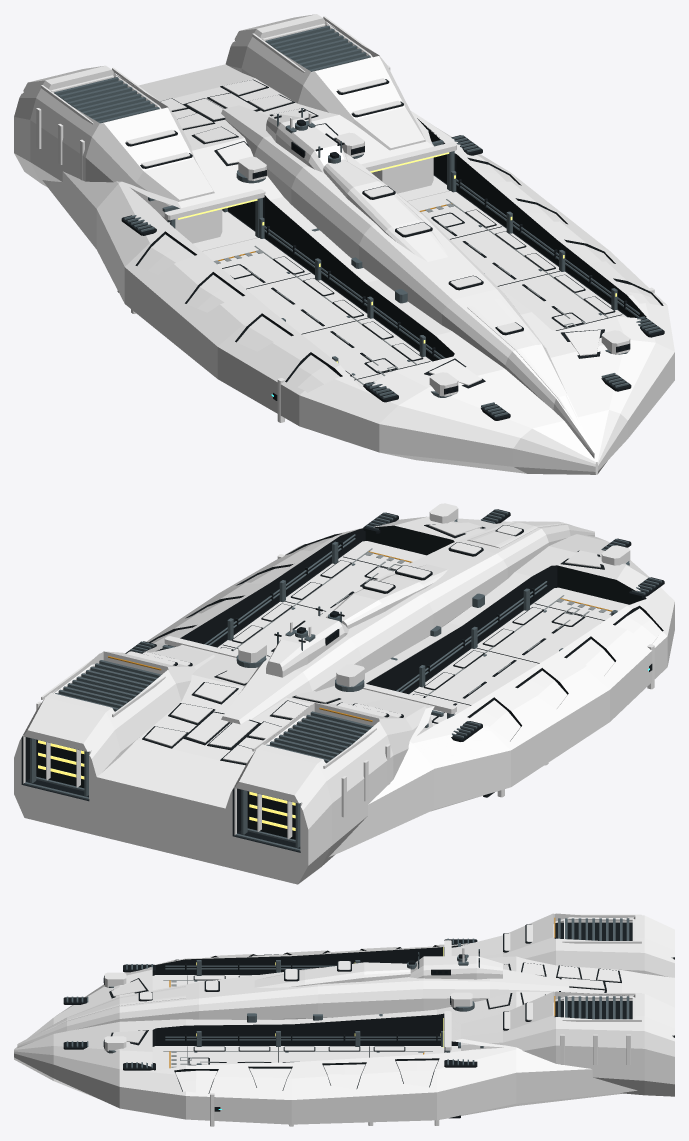
The model's file is carrier-v27.glb.
3 views of the same model, one above another, from view 1: azimuth 30°, elevation 25°; view 2: azimuth 150°, elevation 25°; view 3: azimuth 270°, elevation 25° (orthographic). The views are drawn at different scales.
Parts seen in each view (by area): view 1: CarrierContinuousHull, MassiveAftEnginePod, LongArmoredCentralCitadel, RecessedFlightDeck, CitadelSensorTerrace, ForwardChineInlay, UncrewedSensorCrown, HangarArmoredLintel, HangarFloor, OuterRecessedServiceArmor.003, OuterRecessedServiceArmor.002, OuterRecessedServiceArmor (+6 smaller); view 2: CarrierContinuousHull, MassiveAftEnginePod, LongArmoredCentralCitadel, RecessedFlightDeck, CitadelSensorTerrace, EngineExhaustBack, UncrewedSensorCrown, BoardingRoofServicePanel, OuterRecessedServiceArmor.003, HangarArmoredLintel, OuterRecessedServiceArmor.002, OuterRecessedServiceArmor.001 (+20 smaller); view 3: CarrierContinuousHull, MassiveAftEnginePod, LongArmoredCentralCitadel, RecessedFlightDeck, CitadelSensorTerrace, EngineTopVentBed, UncrewedSensorCrown, ForwardChineInlay, OuterRecessedServiceArmor.003, OuterRecessedServiceArmor.002, OuterRecessedServiceArmor.001, OuterRecessedServiceArmor (+11 smaller).
Boxes of the visible parts, x1=… form: CarrierContinuousHull: x1=42, y1=64, x2=674, y2=474; MassiveAftEnginePod: x1=14, y1=14, x2=433, y2=243; LongArmoredCentralCitadel: x1=221, y1=105, x2=594, y2=458; RecessedFlightDeck: x1=202, y1=191, x2=626, y2=386; CitadelSensorTerrace: x1=323, y1=159, x2=447, y2=261; ForwardChineInlay: x1=467, y1=299, x2=580, y2=427; UncrewedSensorCrown: x1=266, y1=114, x2=347, y2=172; HangarArmoredLintel: x1=164, y1=142, x2=456, y2=220; HangarFloor: x1=193, y1=176, x2=449, y2=251; OuterRecessedServiceArmor.003: x1=137, y1=160, x2=517, y2=274; OuterRecessedServiceArmor.002: x1=187, y1=201, x2=565, y2=312; OuterRecessedServiceArmor: x1=287, y1=281, x2=661, y2=392; CarrierContinuousHull: x1=25, y1=516, x2=674, y2=875; MassiveAftEnginePod: x1=14, y1=646, x2=432, y2=884; LongArmoredCentralCitadel: x1=221, y1=521, x2=594, y2=724; RecessedFlightDeck: x1=218, y1=541, x2=628, y2=725; CitadelSensorTerrace: x1=326, y1=564, x2=447, y2=628; EngineExhaustBack: x1=36, y1=739, x2=295, y2=839; UncrewedSensorCrown: x1=266, y1=615, x2=348, y2=677; BoardingRoofServicePanel: x1=186, y1=712, x2=257, y2=747; OuterRecessedServiceArmor.003: x1=151, y1=627, x2=520, y2=741; HangarArmoredLintel: x1=164, y1=636, x2=456, y2=713; OuterRecessedServiceArmor.002: x1=194, y1=598, x2=567, y2=709; OuterRecessedServiceArmor.001: x1=243, y1=566, x2=614, y2=675; CarrierContinuousHull: x1=14, y1=943, x2=674, y2=1124; MassiveAftEnginePod: x1=461, y1=913, x2=674, y2=1096; LongArmoredCentralCitadel: x1=17, y1=967, x2=569, y2=1047; RecessedFlightDeck: x1=152, y1=975, x2=444, y2=1070; CitadelSensorTerrace: x1=254, y1=962, x2=410, y2=987; EngineTopVentBed: x1=554, y1=922, x2=632, y2=1019; UncrewedSensorCrown: x1=409, y1=956, x2=502, y2=979; ForwardChineInlay: x1=39, y1=986, x2=185, y2=1033; OuterRecessedServiceArmor.003: x1=396, y1=946, x2=438, y2=1087; OuterRecessedServiceArmor.002: x1=323, y1=950, x2=365, y2=1088; OuterRecessedServiceArmor.001: x1=249, y1=954, x2=291, y2=1090; OuterRecessedServiceArmor: x1=175, y1=1070, x2=217, y2=1093.
Bounding box in the file's own units: 26 × 11 × 50.
